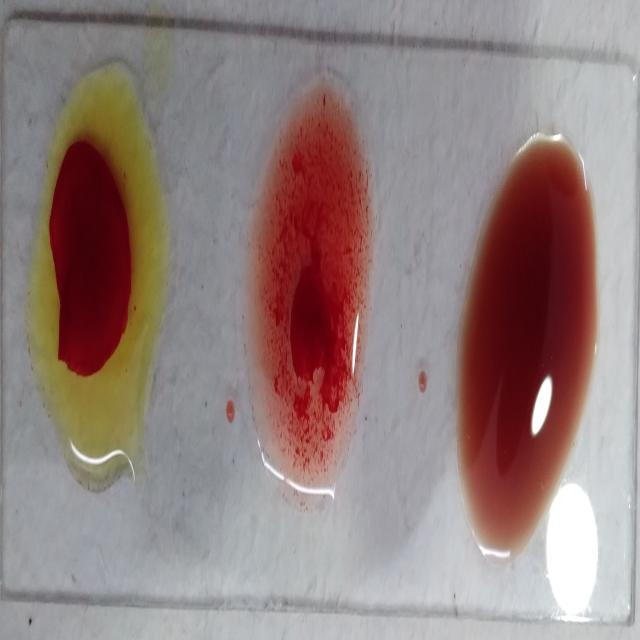B: (28, 65, 172, 482)
D: (244, 90, 378, 483)
